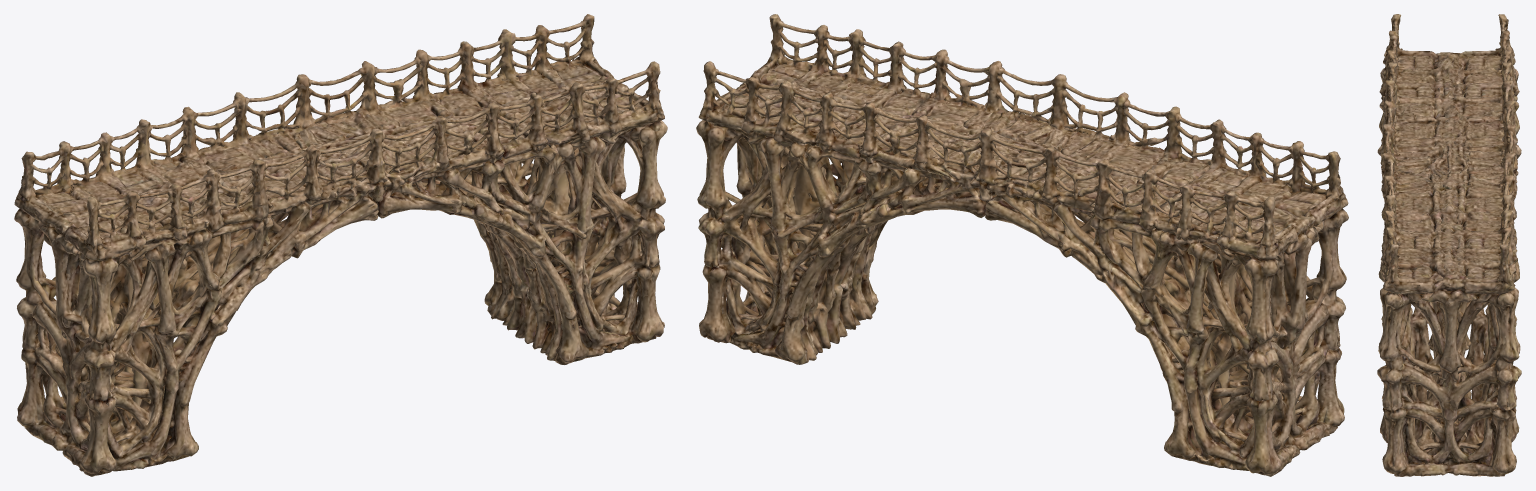
Rendered from bone-bridge.glb.
3 views of the same model, side by side, from view 1: azimuth 30°, elevation 25°; view 2: azimuth 150°, elevation 25°; view 3: azimuth 270°, elevation 25° (orthographic). The views are drawn at different scales.
Visible parts, largest first — view 1: Mesh_0; view 2: Mesh_0; view 3: Mesh_0.
Part boxes in pixels (<box>): Mesh_0: <box>14,14,667,476</box>; Mesh_0: <box>696,14,1348,476</box>; Mesh_0: <box>1377,14,1521,476</box>.
Size of the model in its own units: 10.77 by 5 by 2.77.
1 material, 1 textured.
